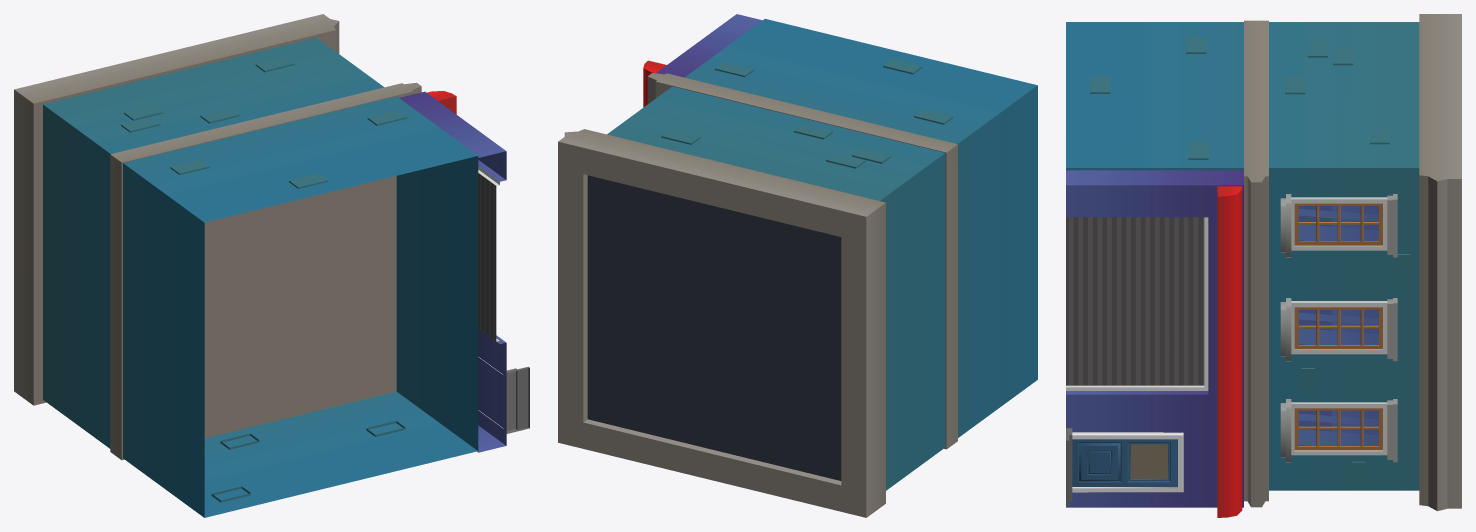
The model's file is Building_19_3_E.fbx.
3 views of the same model, side by side, from view 1: azimuth 30°, elevation 25°; view 2: azimuth 150°, elevation 25°; view 3: azimuth 270°, elevation 25° (orthographic). The views are drawn at different scales.
Visible parts, largest first — view 1: Building_19_3_E; view 2: Building_19_3_E; view 3: Building_19_3_E.
Part boxes in pixels (bbox=[...]): Building_19_3_E: bbox=[14, 14, 529, 517]; Building_19_3_E: bbox=[558, 14, 1037, 517]; Building_19_3_E: bbox=[1066, 14, 1461, 517].
Size of the model in its own units: 774 by 667 by 726.
